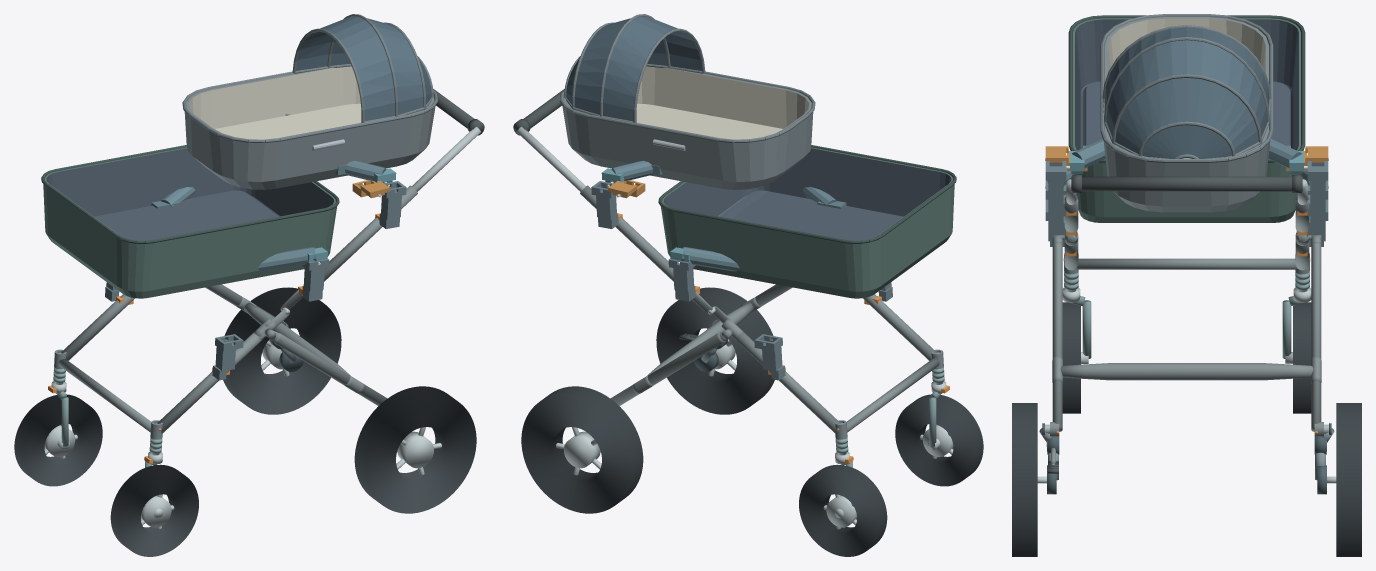
The model's file is D12_w650_state1_wheel_L.glb.
The picture shows the model from 3 angles, left to right: view 1: azimuth 30°, elevation 25°; view 2: azimuth 150°, elevation 25°; view 3: azimuth 270°, elevation 25°; orthographic projection. The views are drawn at different scales.
Visible parts, largest first — view 1: D12_Lower, D12_Upper, RL_tire.008, RR_tire.008, FL_tire.008, FR_tire.008, D12_Lower_Mount_M, V46_rear_leg_-1.009, main_lower_-1.009, front_fixed_round_tube.008, main_upper_-1.009, main_lower_1.009 (+9 smaller); view 2: D12_Lower, D12_Upper, RR_tire.008, RL_tire.008, FR_tire.008, FL_tire.008, D12_Lower_Mount_M, V46_rear_leg_1.009, main_lower_1.009, front_fixed_round_tube.008, main_upper_1.009, main_lower_-1.009 (+9 smaller); view 3: D12_Upper, D12_Lower, V46_rearbar.009, RL_tire.008, RR_tire.008, round_handle.008, front_fixed_round_tube.008, FL_tire.008, FR_tire.008, V46_rear_leg_1.009, V46_rear_leg_-1.009, D12_Upper_Mount_H (+8 smaller).
Part boxes in pixels (bbox=[...]): D12_Lower: bbox=[41, 145, 339, 298]; D12_Upper: bbox=[182, 14, 437, 189]; RL_tire.008: bbox=[354, 386, 476, 513]; RR_tire.008: bbox=[223, 287, 341, 414]; FL_tire.008: bbox=[110, 464, 198, 556]; FR_tire.008: bbox=[14, 394, 102, 486]; D12_Lower_Mount_M: bbox=[151, 187, 327, 271]; V46_rear_leg_-1.009: bbox=[272, 332, 387, 405]; main_lower_-1.009: bbox=[157, 332, 264, 433]; front_fixed_round_tube.008: bbox=[58, 358, 150, 432]; main_upper_-1.009: bbox=[324, 185, 417, 281]; main_lower_1.009: bbox=[61, 294, 134, 360]; D12_Lower: bbox=[658, 145, 956, 298]; D12_Upper: bbox=[560, 14, 815, 189]; RR_tire.008: bbox=[521, 386, 643, 513]; RL_tire.008: bbox=[656, 287, 774, 414]; FR_tire.008: bbox=[799, 464, 887, 556]; FL_tire.008: bbox=[895, 394, 983, 486]; D12_Lower_Mount_M: bbox=[670, 187, 846, 271]; V46_rear_leg_1.009: bbox=[610, 332, 725, 405]; main_lower_1.009: bbox=[733, 332, 840, 433]; front_fixed_round_tube.008: bbox=[847, 358, 939, 432]; main_upper_1.009: bbox=[580, 185, 673, 281]; main_lower_-1.009: bbox=[863, 294, 936, 360]; D12_Upper: bbox=[1100, 14, 1273, 212]; D12_Lower: bbox=[1068, 15, 1305, 222]; V46_rearbar.009: bbox=[1060, 363, 1313, 380]; RL_tire.008: bbox=[1012, 403, 1037, 556]; RR_tire.008: bbox=[1336, 403, 1361, 556]; round_handle.008: bbox=[1071, 176, 1302, 191]; front_fixed_round_tube.008: bbox=[1076, 258, 1297, 269]; FL_tire.008: bbox=[1062, 302, 1080, 413]; FR_tire.008: bbox=[1293, 302, 1311, 413]; V46_rear_leg_1.009: bbox=[1311, 241, 1321, 431]; V46_rear_leg_-1.009: bbox=[1052, 241, 1062, 431]; D12_Upper_Mount_H: bbox=[1066, 139, 1307, 174].
Bounding box in the file's own units: 1.2 × 1.35 × 0.8171.
